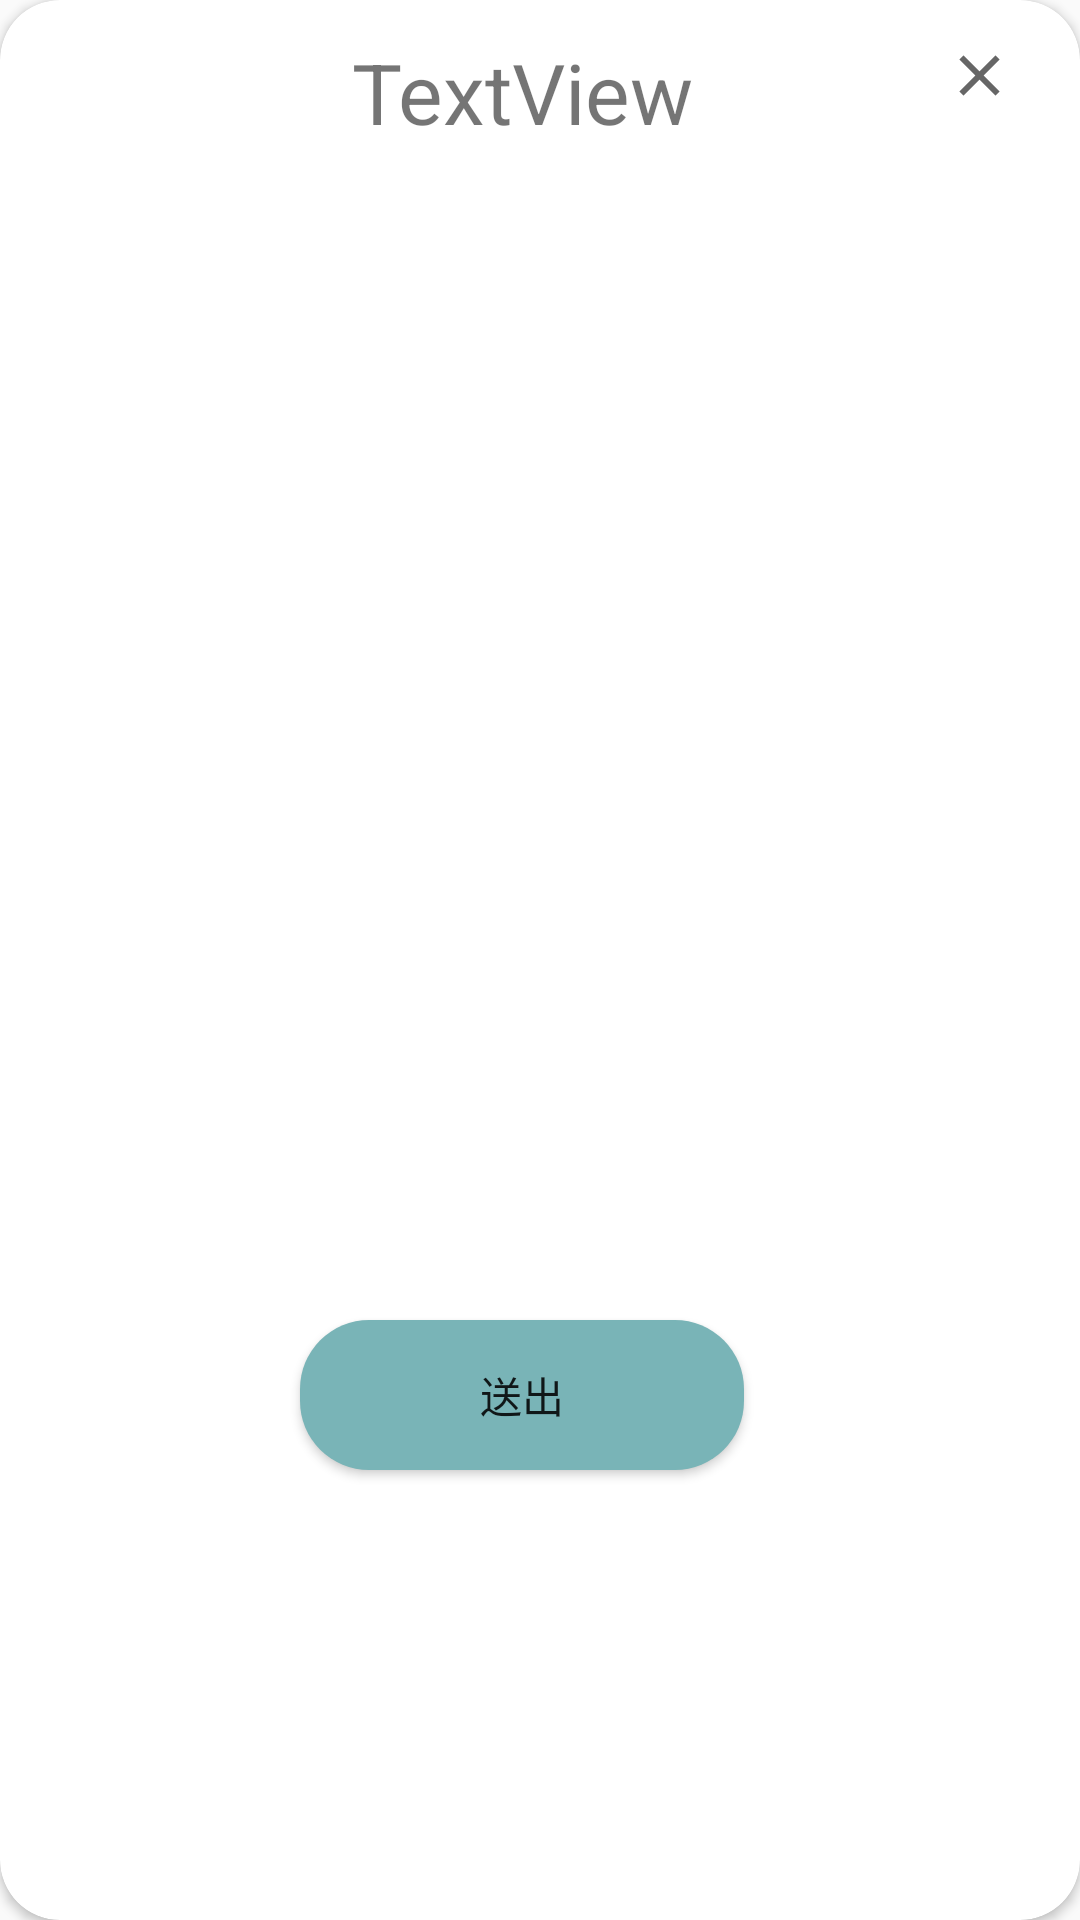

Icons on this 1080×1920 Android screen, each with its box as (x1, y1, x2, y2):
close: (959, 55, 1000, 96)
